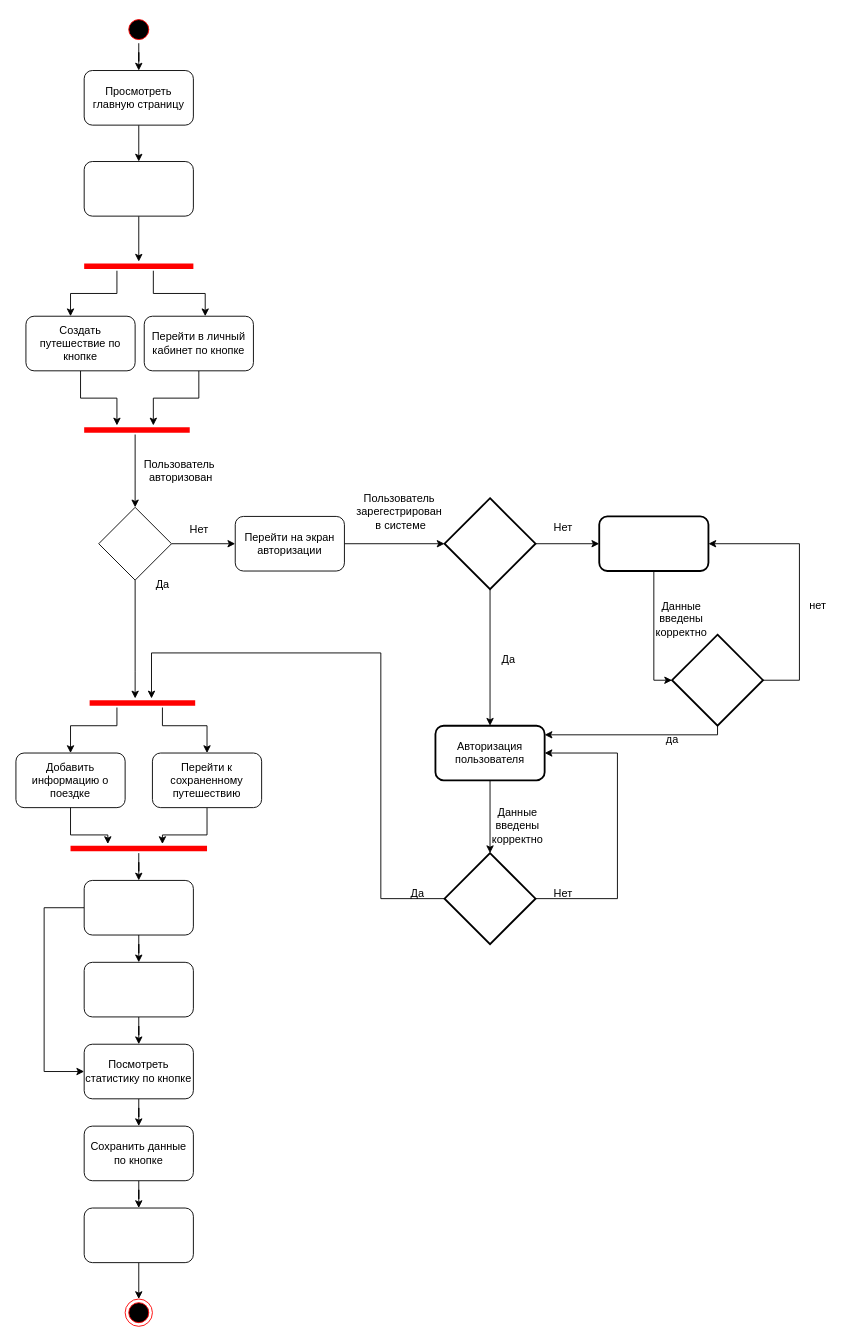
Some shapes in this 852 by 1342 pixel diagram are drawn without their labels. Each missing label, with the centre of its shape:
Выйти из системы: pixel 138 1235
Настроить траты: pixel 138 989
Посмотреть маршрут по кнопке: pixel 138 907
Посмотреть страницу опубликованных поездок: pixel 138 188
Регистрация пользователя: pixel 653 543
